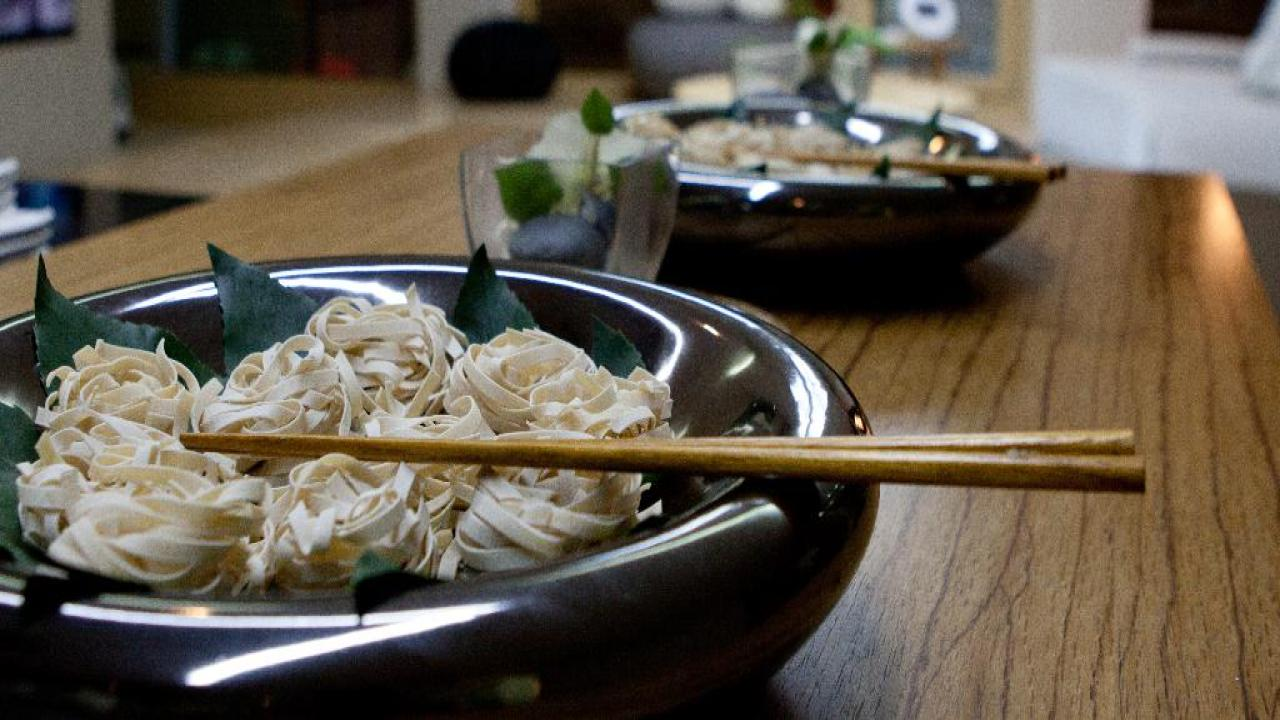chopstick: (180, 432, 1136, 463)
